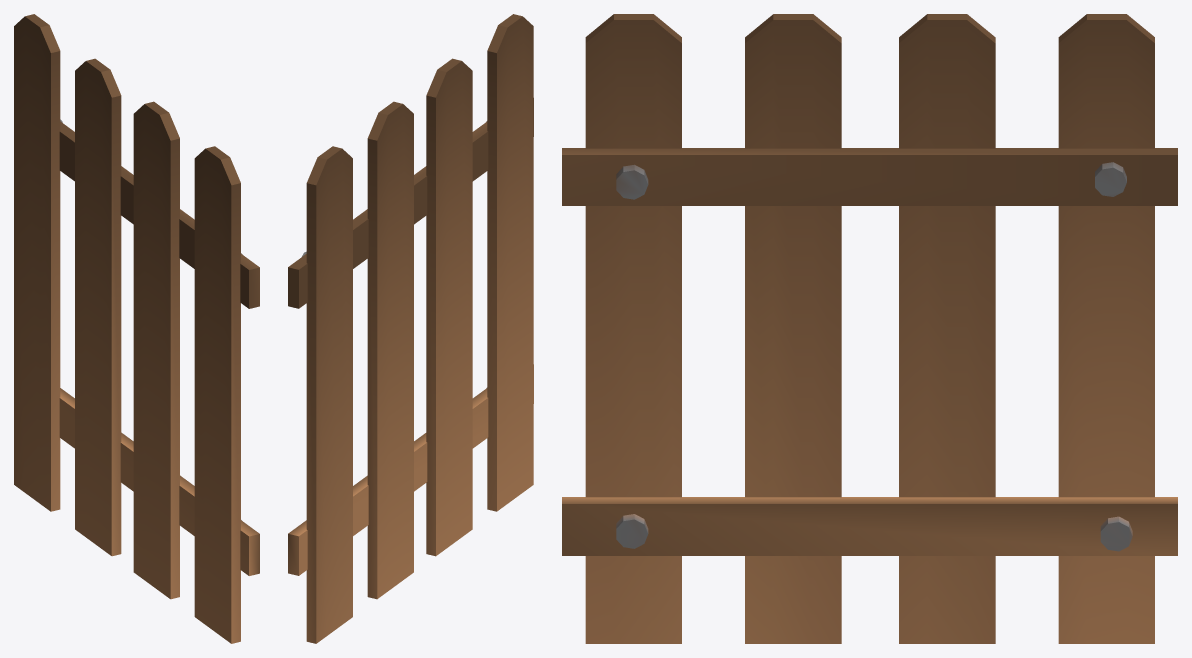
The model's file is plotek1.fbx.
The picture shows the model from 3 angles, left to right: view 1: azimuth 30°, elevation 25°; view 2: azimuth 150°, elevation 25°; view 3: azimuth 270°, elevation 25°; orthographic projection. The views are drawn at different scales.
Visible parts, largest first — view 1: Cube.001; view 2: Cube.001; view 3: Cube.001.
Part boxes in pixels (x1=…): Cube.001: x1=14, y1=14, x2=259, y2=643; Cube.001: x1=288, y1=14, x2=533, y2=643; Cube.001: x1=562, y1=14, x2=1177, y2=643.
Bounding box in the file's own units: 26.29 × 425 × 380.
